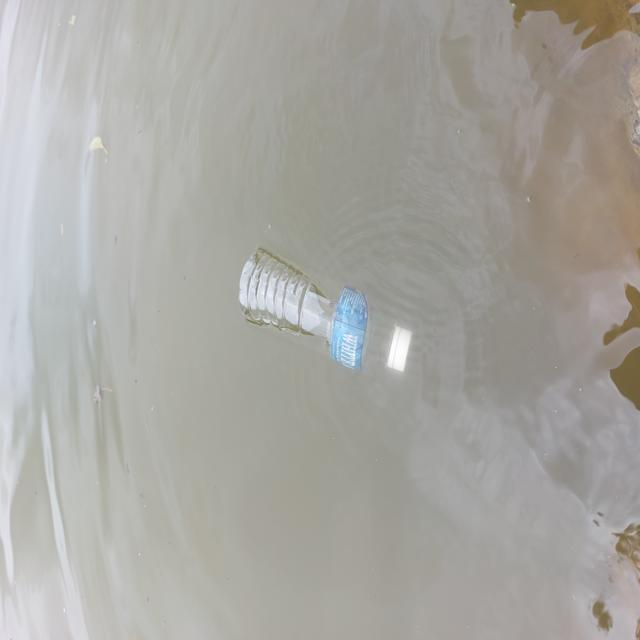waterbottle: (224, 222, 436, 377)
